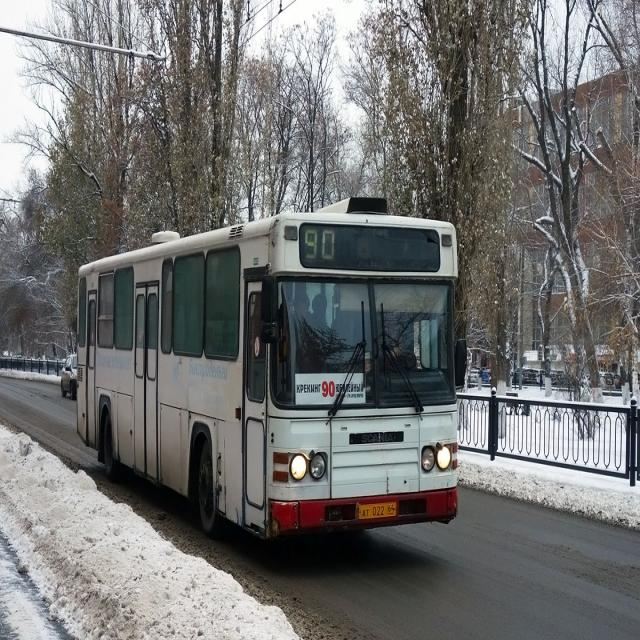number-of-bus: (303, 227, 340, 266), (323, 380, 336, 400)
